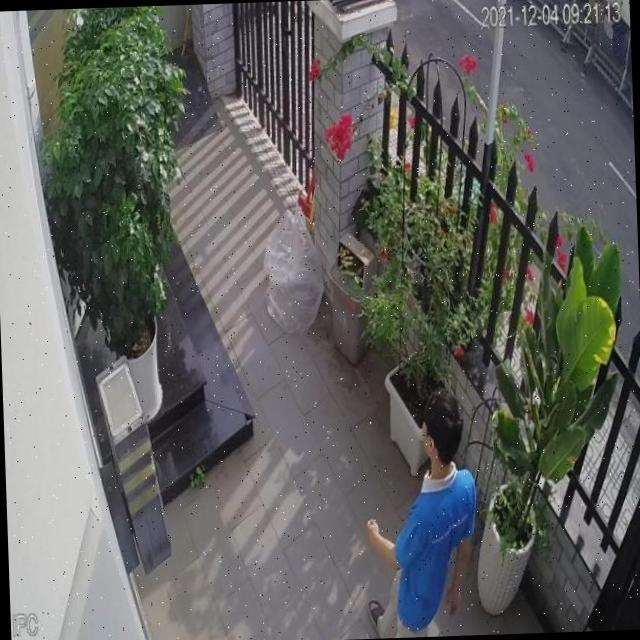person: (361, 384, 481, 638)
